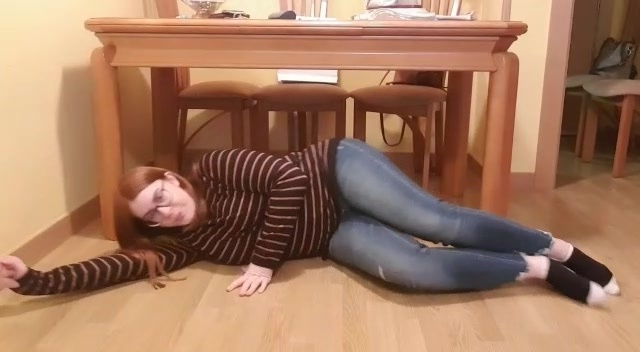fall: (0, 127, 639, 326)
